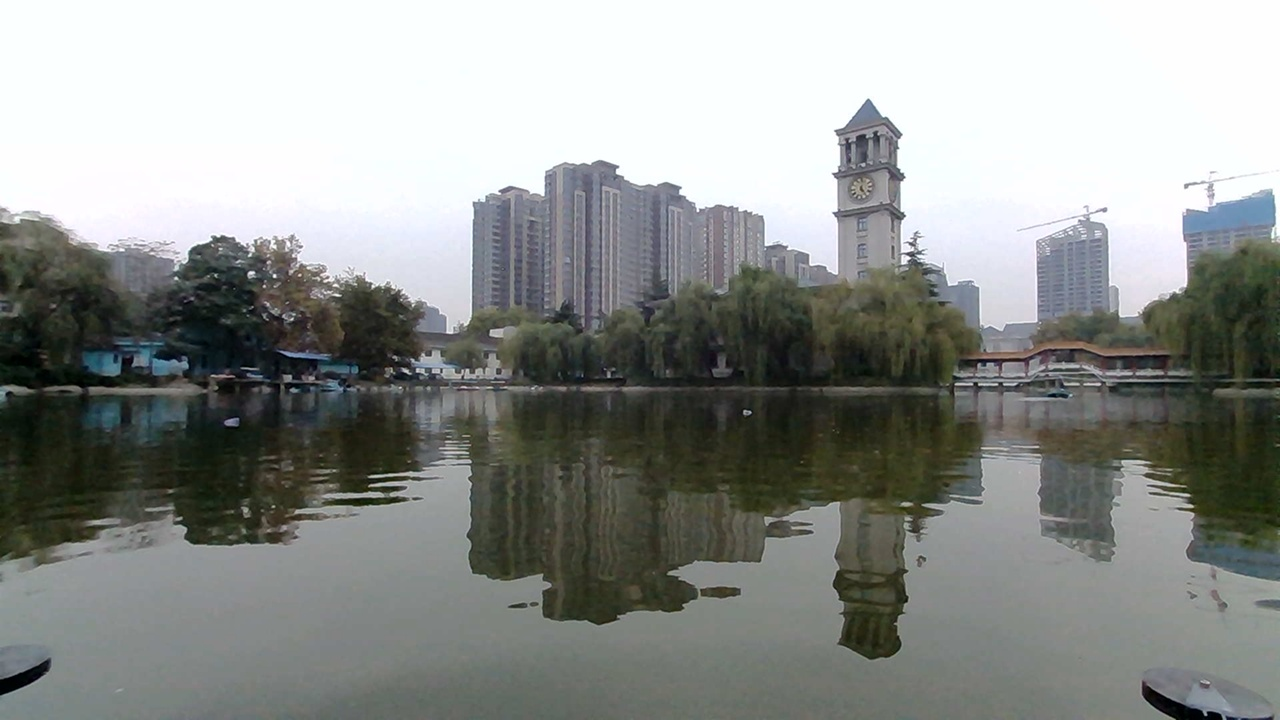bottle: (206, 403, 255, 440), (727, 393, 770, 422)
